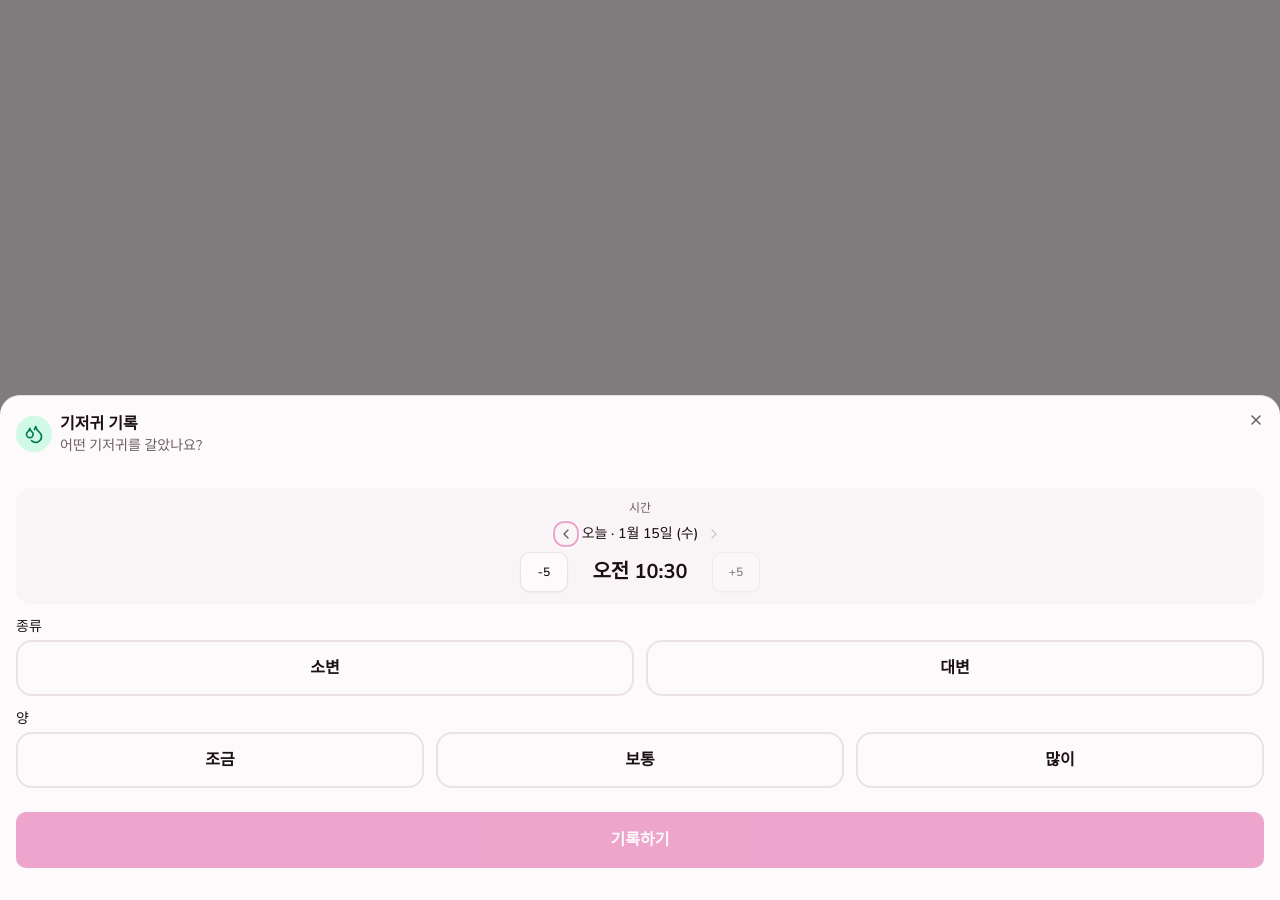
Scenario: DiaperSheet › submit button is enabled when type and amount both selected
This screenshot has width=1280, height=900.
Click the button "소변" at {"x": 325, "y": 668}, box left=16, top=640, right=634, bottom=696
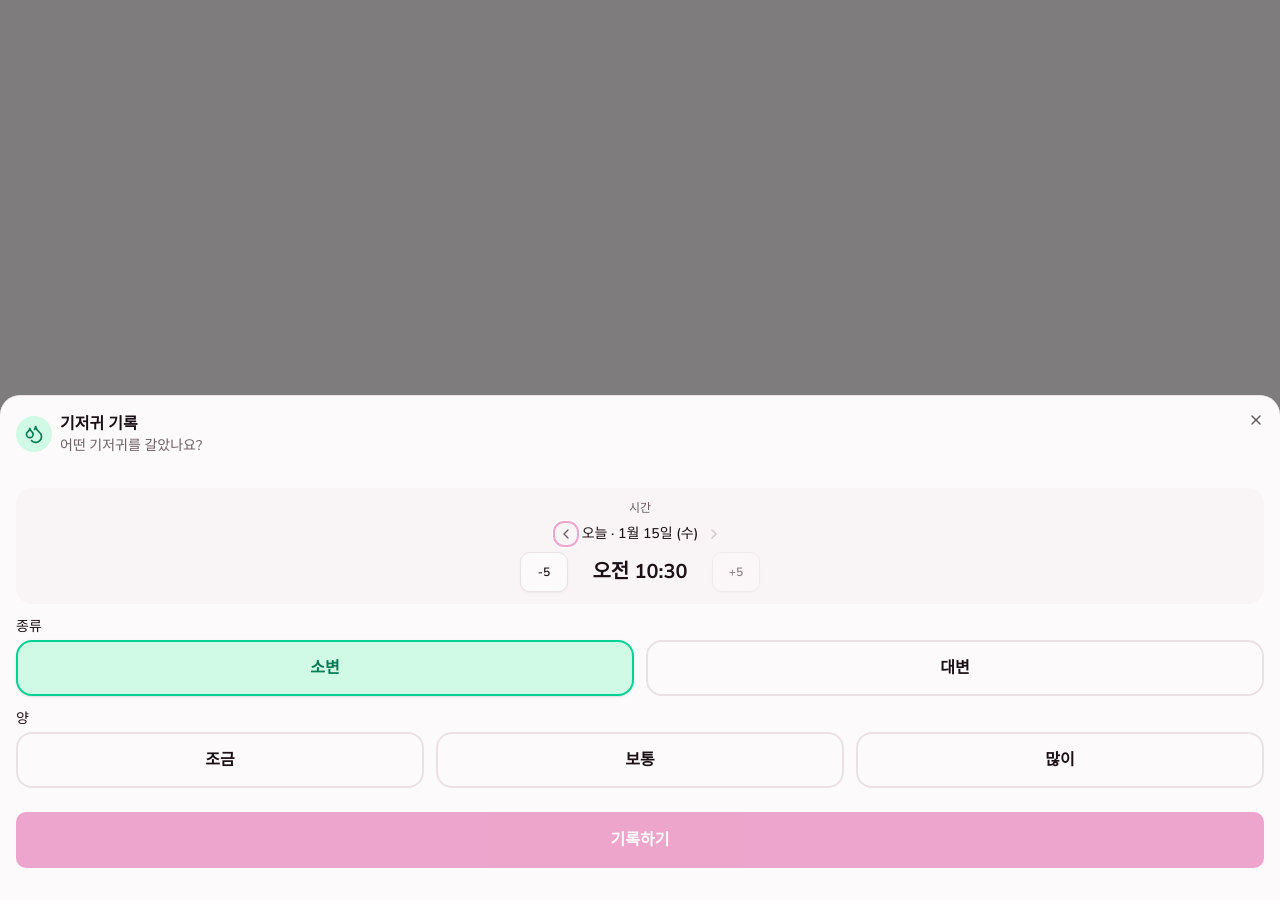
Click the button "보통" at {"x": 640, "y": 760}, box left=436, top=732, right=844, bottom=788
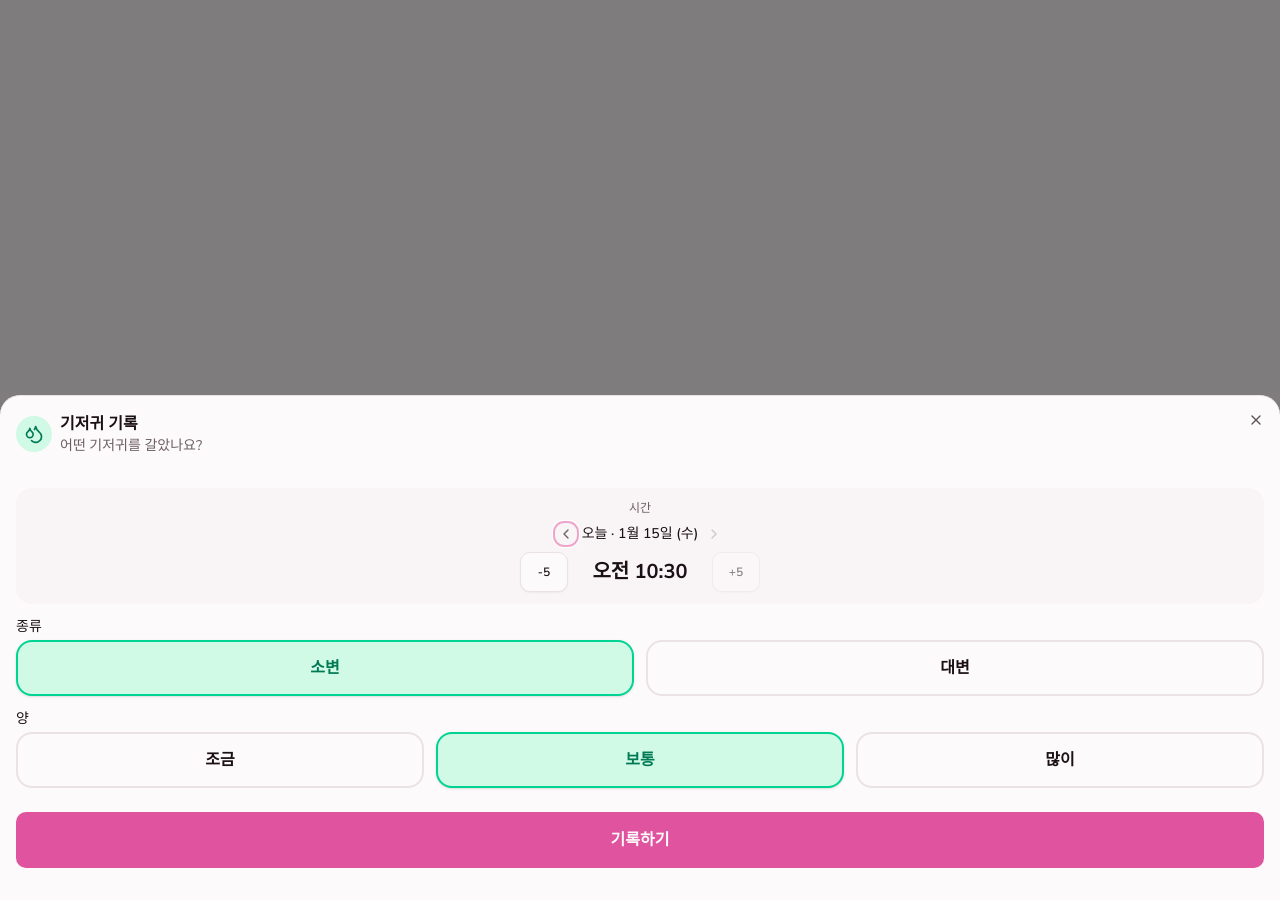
Result: the button "기록하기" is enabled at left=16, top=812, right=1264, bottom=868
